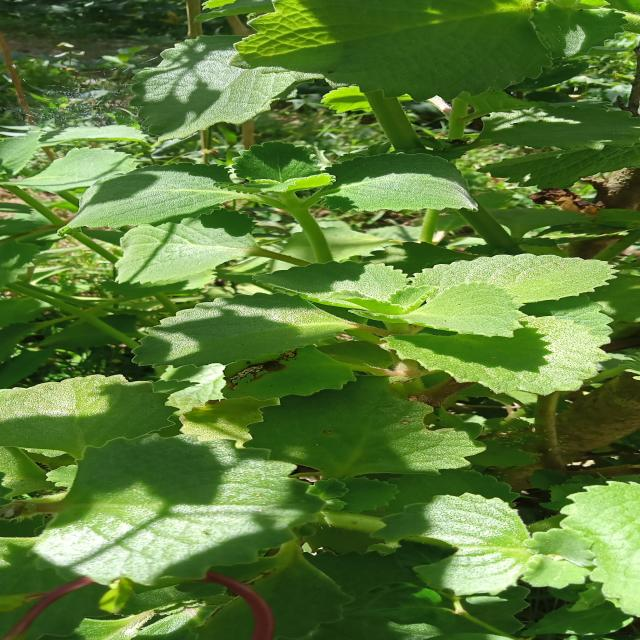Oregano: (0, 437, 334, 634), (234, 250, 640, 408), (217, 366, 520, 499), (220, 121, 489, 248), (83, 283, 356, 389), (63, 160, 240, 248)
